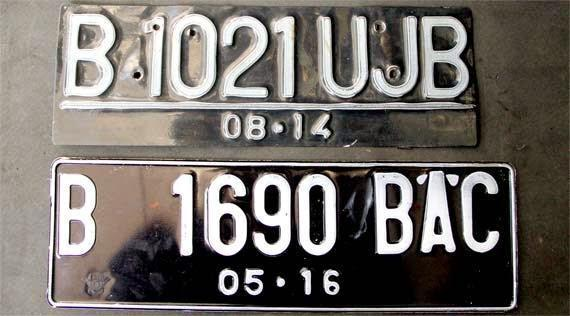0: (292, 167, 344, 258), (170, 12, 220, 100)
1: (164, 169, 203, 264), (271, 16, 303, 103), (139, 17, 169, 99)
2: (217, 10, 271, 100)
6: (201, 172, 249, 262)
9: (248, 171, 293, 258)
A: (417, 167, 454, 259)
B: (64, 12, 125, 98), (367, 169, 418, 260), (419, 12, 472, 99), (58, 169, 104, 261)
C: (454, 167, 504, 258)
J: (368, 13, 421, 99)
U: (315, 12, 370, 100)
